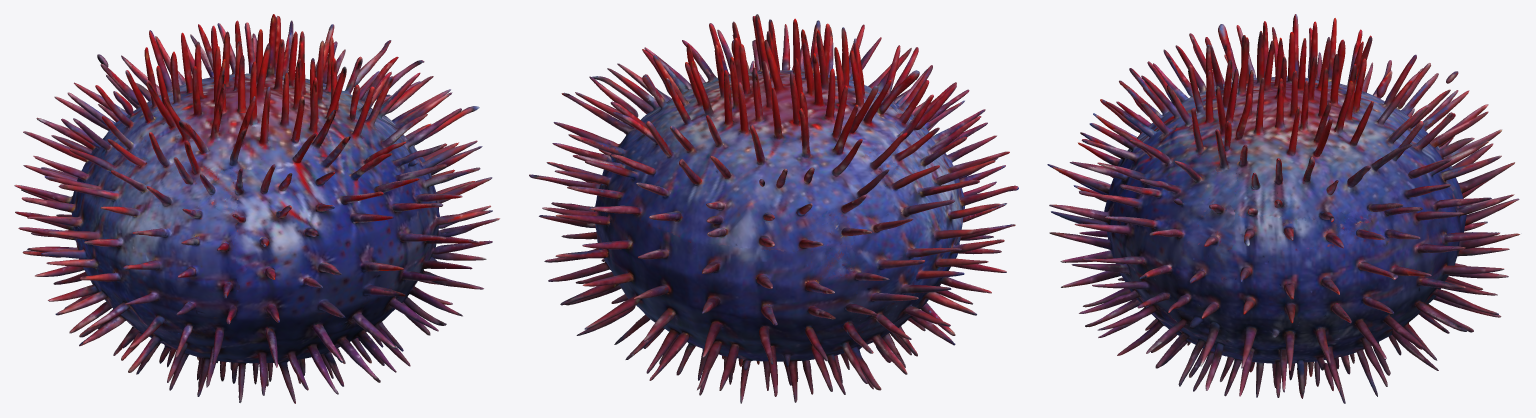
Rendered from sea_urchin.glb.
The picture shows the model from 3 angles, left to right: view 1: azimuth 30°, elevation 25°; view 2: azimuth 150°, elevation 25°; view 3: azimuth 270°, elevation 25°; orthographic projection.
Bounding box in the file's own units: 2.04 × 1.53 × 2.04.
Materials: 1 (1 with a texture image).
